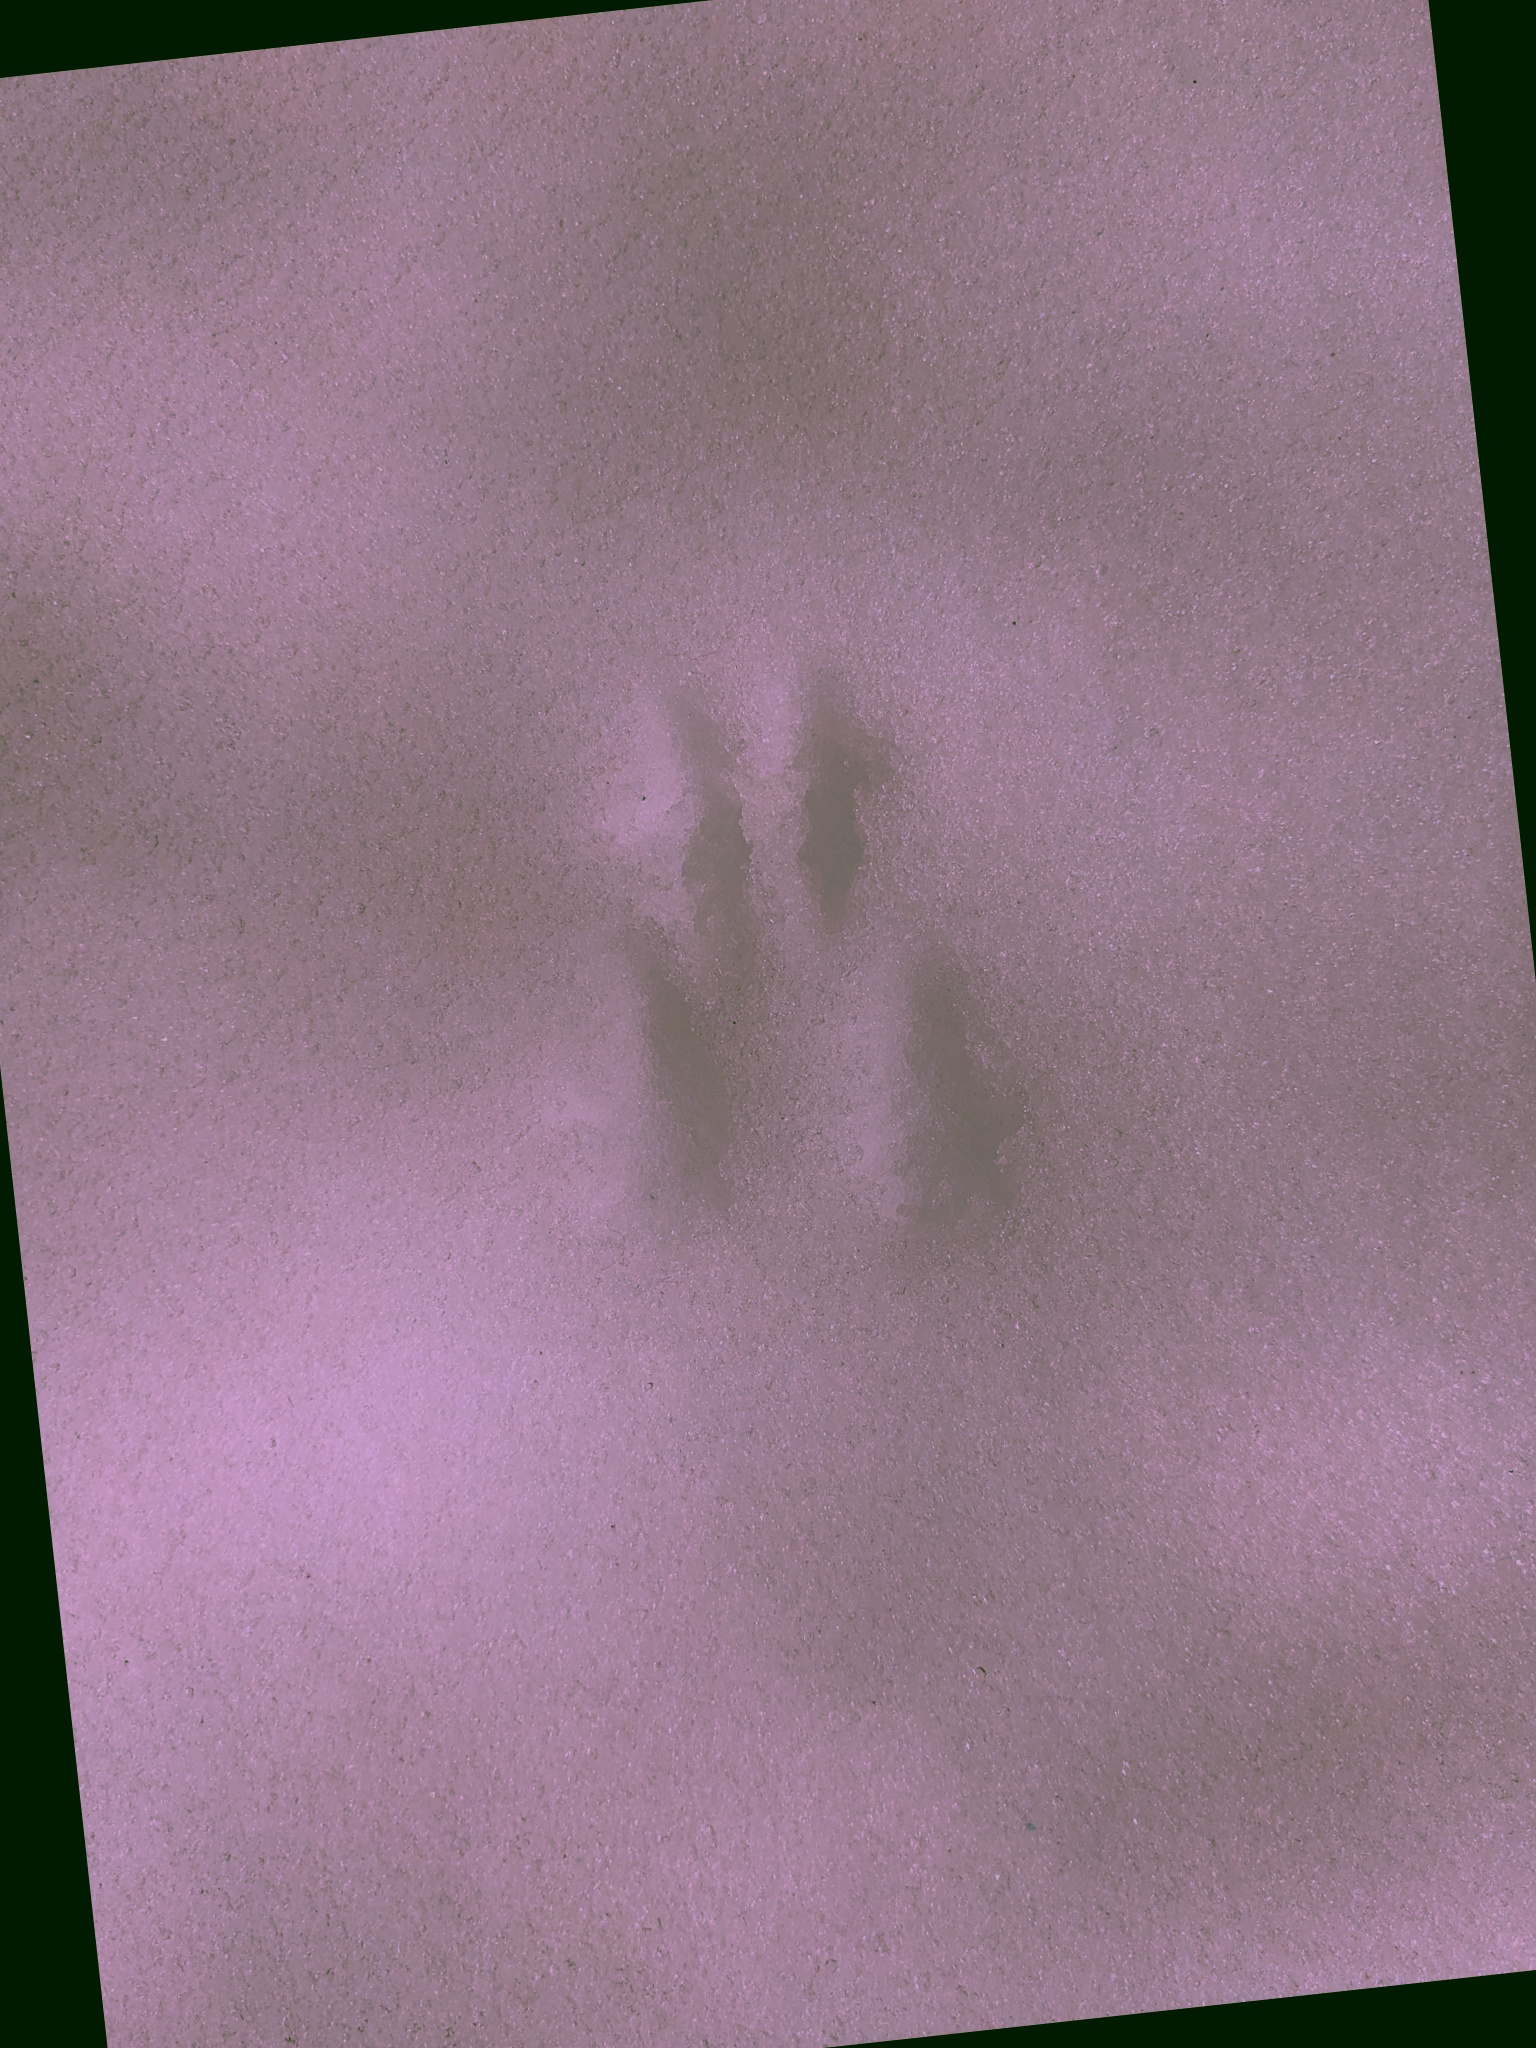ecureuil: (431, 537, 1162, 1708)
